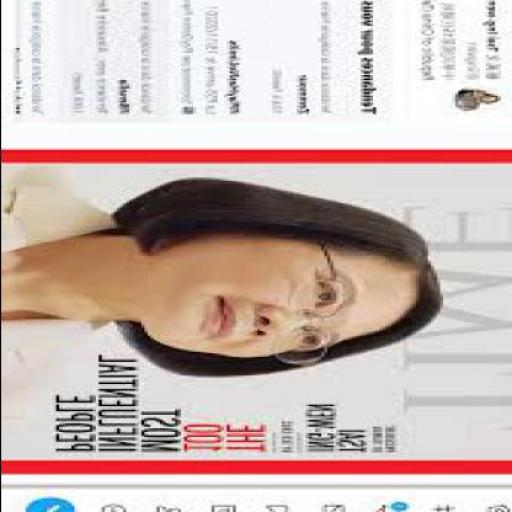paper: (2, 152, 511, 478)
